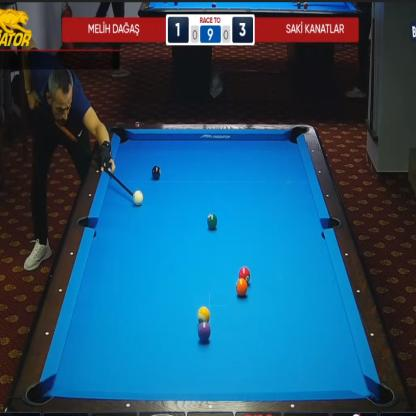Ball: (197, 322, 211, 342), (236, 278, 247, 297), (197, 306, 210, 322), (238, 267, 250, 283), (207, 212, 217, 230), (133, 190, 144, 206), (152, 165, 161, 180)
